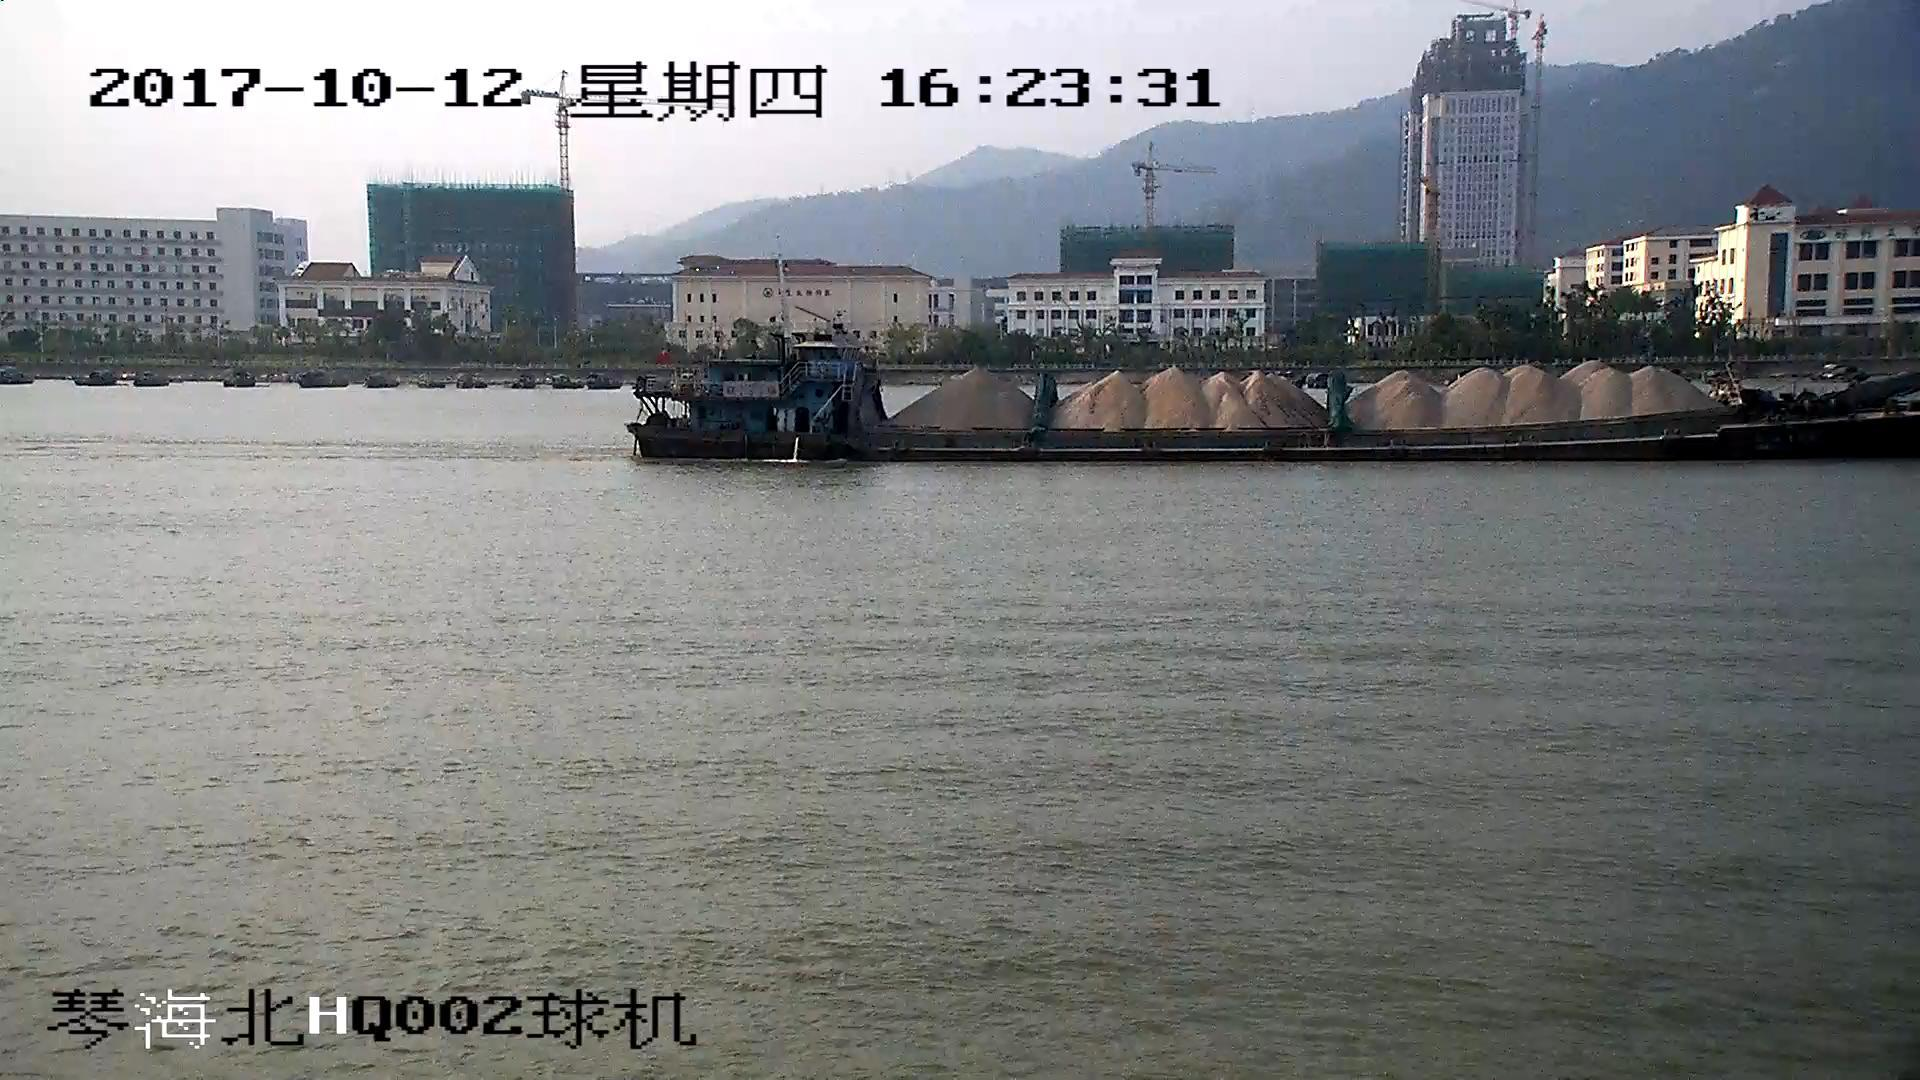Ship: (622, 323, 1920, 464)
